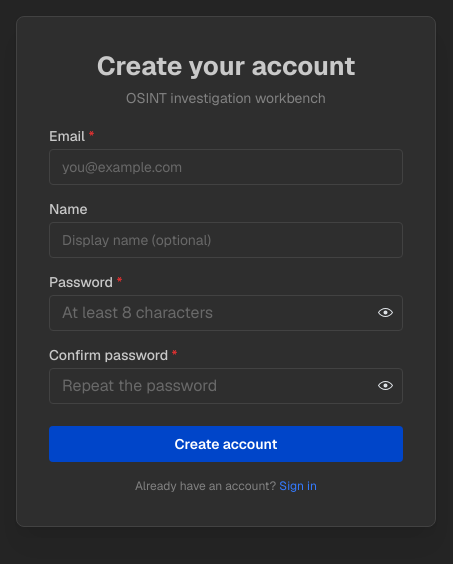
Test: RegisterPage › rejects mismatched passwords
This screenshot has width=453, height=564.
Step 1. Type "new@example.com" into the field labelled "Email *" → (226, 167), box left=49, top=149, right=403, bottom=185
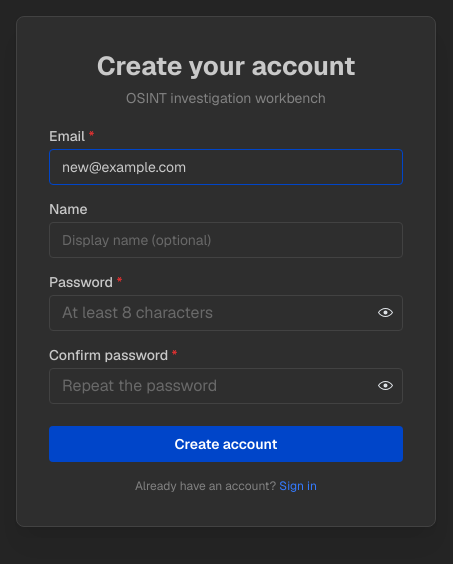
Step 2. Type "hunter222" into the password field with placeholder "At least 8 characters" → (226, 313), box left=50, top=296, right=402, bottom=330
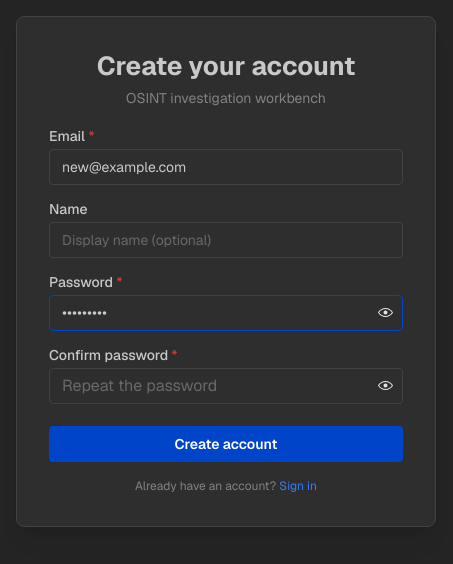
Step 3. Type "different" into the password field with placeholder "Repeat the password" → (226, 386), box left=50, top=369, right=402, bottom=403
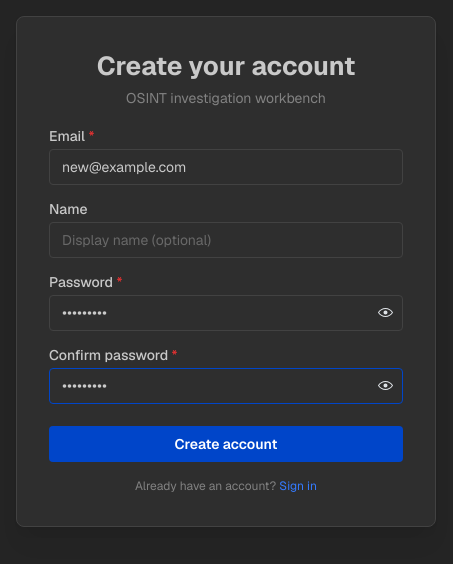
Step 4. Click the button "Create account" → (226, 444), box left=49, top=426, right=403, bottom=462
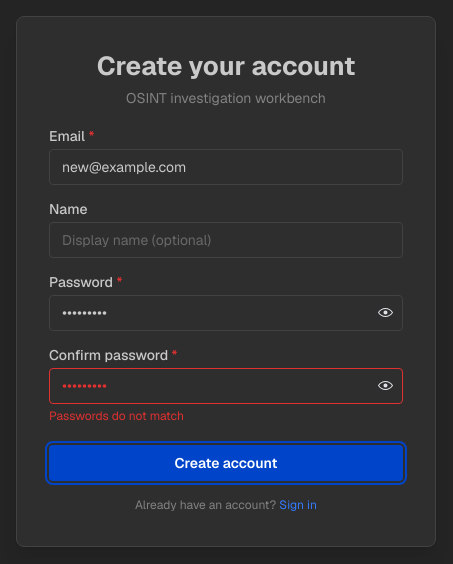
Expected: the text "Passwords do not match" is shown, left=49, top=408, right=184, bottom=424
